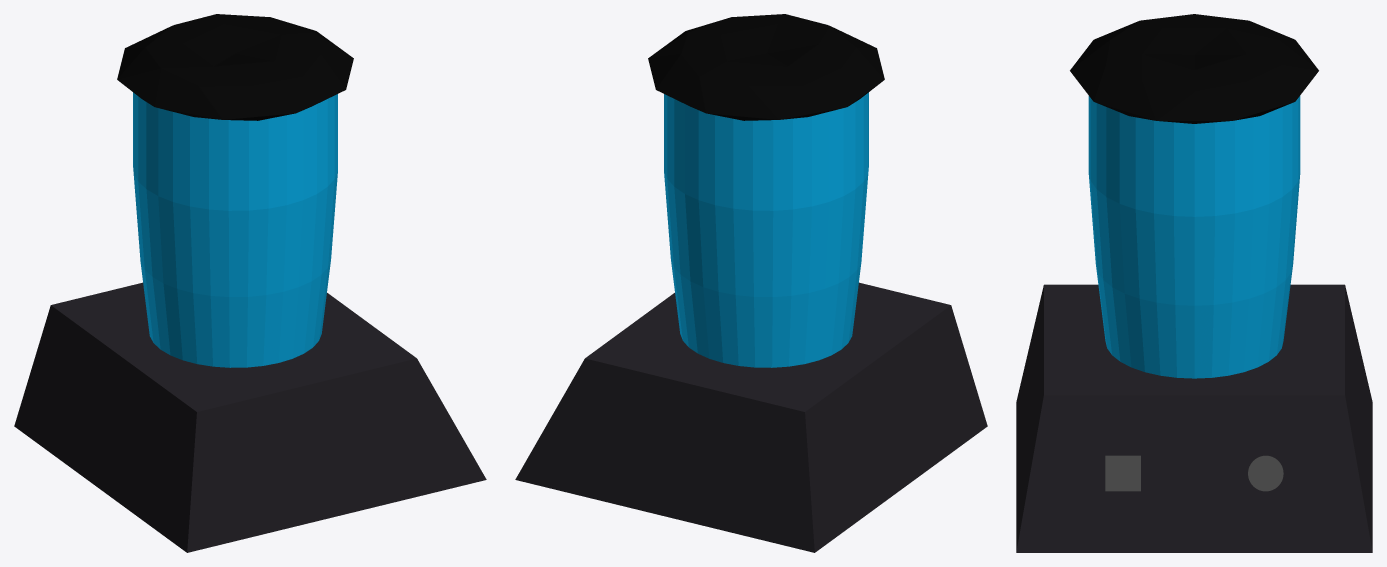
Rendered from KeukenBlender.fbx.
3 views of the same model, side by side, from view 1: azimuth 30°, elevation 25°; view 2: azimuth 150°, elevation 25°; view 3: azimuth 270°, elevation 25° (orthographic). The views are drawn at different scales.
Parts seen in each view (by area): view 1: Glas; view 2: Glas; view 3: Glas.
Part boxes in pixels (x1=…): Glas: x1=14, y1=14, x2=486, y2=552; Glas: x1=515, y1=14, x2=987, y2=552; Glas: x1=1016, y1=14, x2=1372, y2=552.
Bounding box in the file's own units: 100 × 131 × 100.
